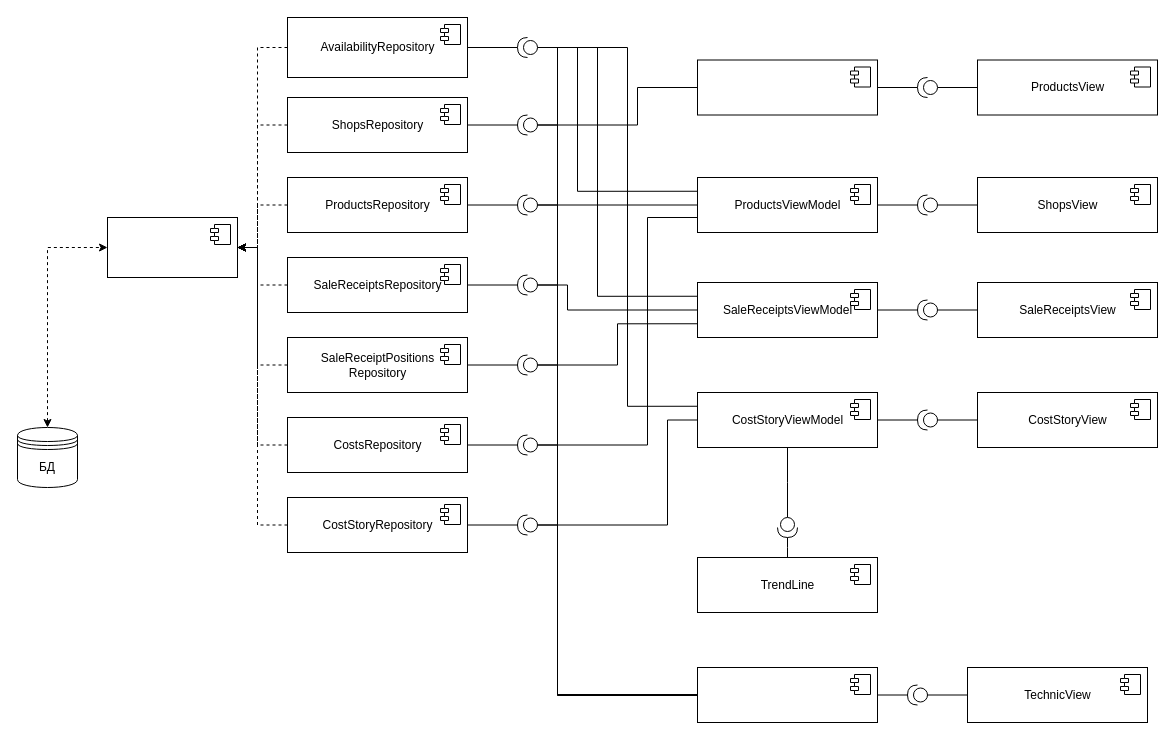
This 1175x740 diagram has some shape labels left out. The shapes that lost their labels are listed below. From the top down, each one's box as (x1, y1, x2, y2) in pixels, then its label:
(696, 59, 878, 115): ShopsViewModel
(106, 216, 238, 278): SpsrLtContext
(696, 666, 878, 722): TechnicPresenter
